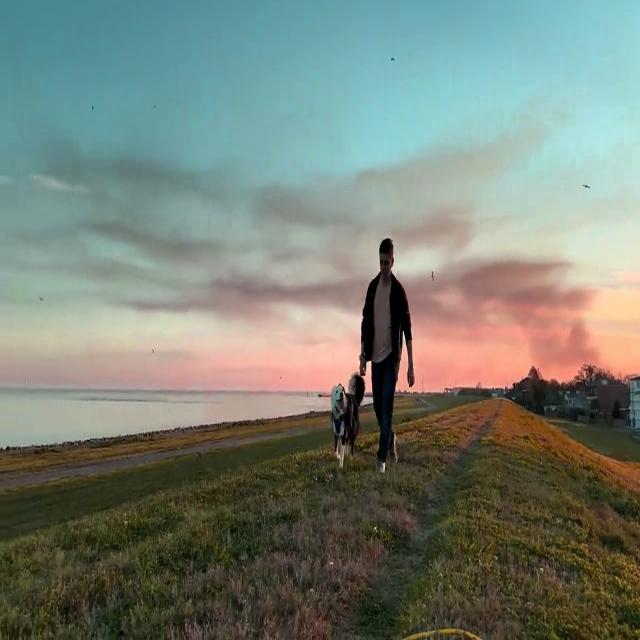Unleashed_Dog: (331, 362, 391, 468)
